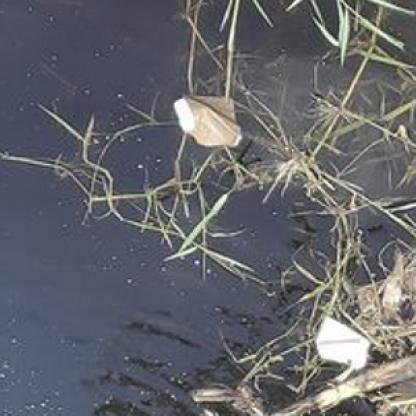Trash: (174, 96, 243, 153), (313, 313, 370, 371)
